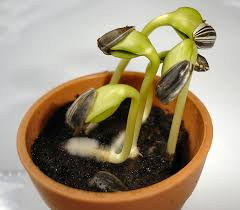girasol5-12dias: (58, 84, 143, 163), (94, 22, 165, 85), (159, 1, 220, 49)
